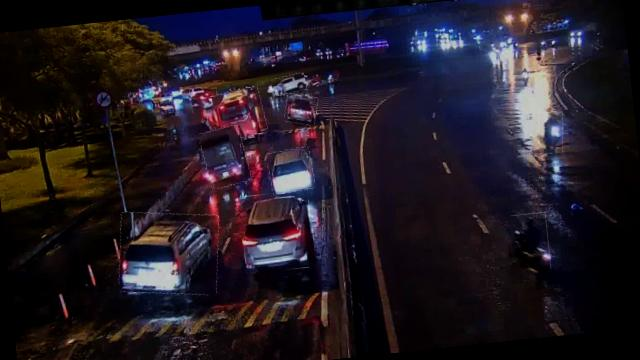Bike: (510, 212, 551, 273), (537, 110, 566, 154)
Bus: (202, 86, 266, 143)
Car: (114, 206, 224, 300), (238, 190, 316, 274), (267, 147, 315, 195), (284, 92, 320, 126), (270, 73, 308, 96), (190, 86, 218, 106)
Truck: (200, 126, 250, 190)
